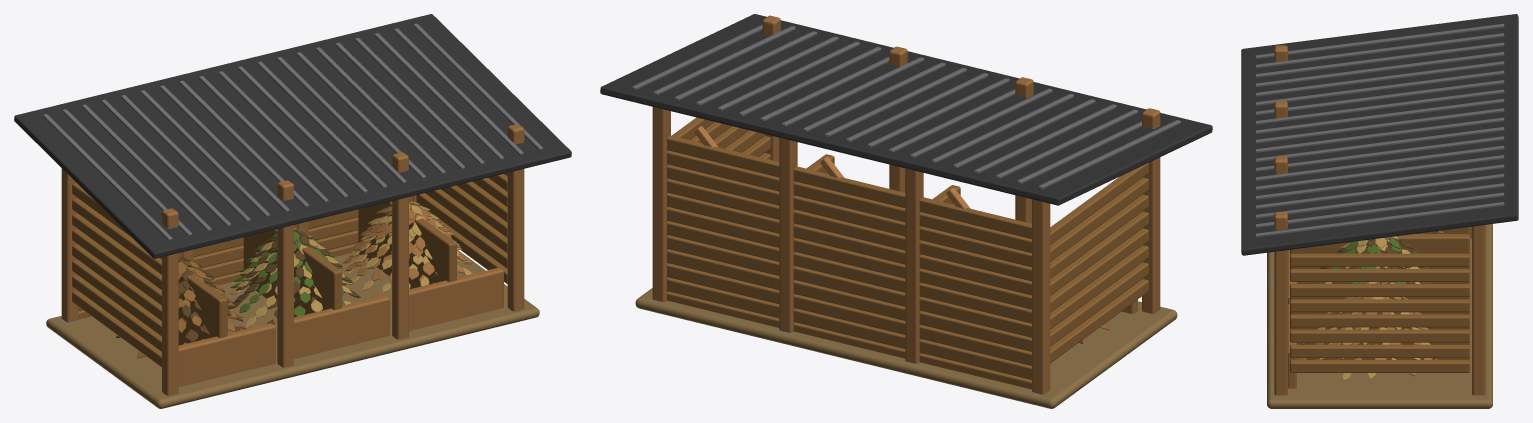
Rendered from compost-shed.glb.
3 views of the same model, side by side, from view 1: azimuth 30°, elevation 25°; view 2: azimuth 150°, elevation 25°; view 3: azimuth 270°, elevation 25° (orthographic). The views are drawn at different scales.
Visible parts, largest first — view 1: compost-shed-farm-roof-slate, compost-shed-farm-wood-dark, compost-shed-farm-wood, compost-shed-farm-metal, compost-shed-farm-dirt, compost-shed-farm-thatch, compost-shed-farm-soil, compost-shed-farm-leaf; view 2: compost-shed-farm-wood-dark, compost-shed-farm-roof-slate, compost-shed-farm-wood, compost-shed-farm-metal, compost-shed-farm-dirt, compost-shed-farm-wood-light; view 3: compost-shed-farm-roof-slate, compost-shed-farm-wood-dark, compost-shed-farm-metal, compost-shed-farm-dirt, compost-shed-farm-wood, compost-shed-farm-thatch, compost-shed-farm-leaf, compost-shed-farm-soil.
Boxes of the visible parts, left/top/right/bottom form: compost-shed-farm-roof-slate: left=14, top=14, right=571, bottom=258; compost-shed-farm-wood-dark: left=72, top=173, right=507, bottom=367; compost-shed-farm-wood: left=61, top=124, right=524, bottom=395; compost-shed-farm-metal: left=43, top=23, right=542, bottom=240; compost-shed-farm-dirt: left=46, top=249, right=539, bottom=408; compost-shed-farm-thatch: left=230, top=201, right=471, bottom=328; compost-shed-farm-soil: left=116, top=231, right=359, bottom=341; compost-shed-farm-leaf: left=230, top=230, right=361, bottom=316; compost-shed-farm-wood-dark: left=667, top=117, right=1148, bottom=389; compost-shed-farm-roof-slate: left=600, top=14, right=1212, bottom=205; compost-shed-farm-wood: left=652, top=15, right=1160, bottom=394; compost-shed-farm-metal: left=632, top=24, right=1180, bottom=188; compost-shed-farm-dirt: left=635, top=288, right=1177, bottom=408; compost-shed-farm-wood-light: left=694, top=126, right=976, bottom=225; compost-shed-farm-roof-slate: left=1241, top=14, right=1518, bottom=255; compost-shed-farm-wood-dark: left=1290, top=227, right=1469, bottom=372; compost-shed-farm-metal: left=1255, top=23, right=1504, bottom=237; compost-shed-farm-dirt: left=1267, top=224, right=1492, bottom=408; compost-shed-farm-wood: left=1274, top=45, right=1485, bottom=395; compost-shed-farm-thatch: left=1317, top=236, right=1437, bottom=381; compost-shed-farm-leaf: left=1314, top=236, right=1429, bottom=283; compost-shed-farm-soil: left=1320, top=231, right=1438, bottom=283.
Bounding box in the file's own units: 5.69 × 2.7 × 3.31.
